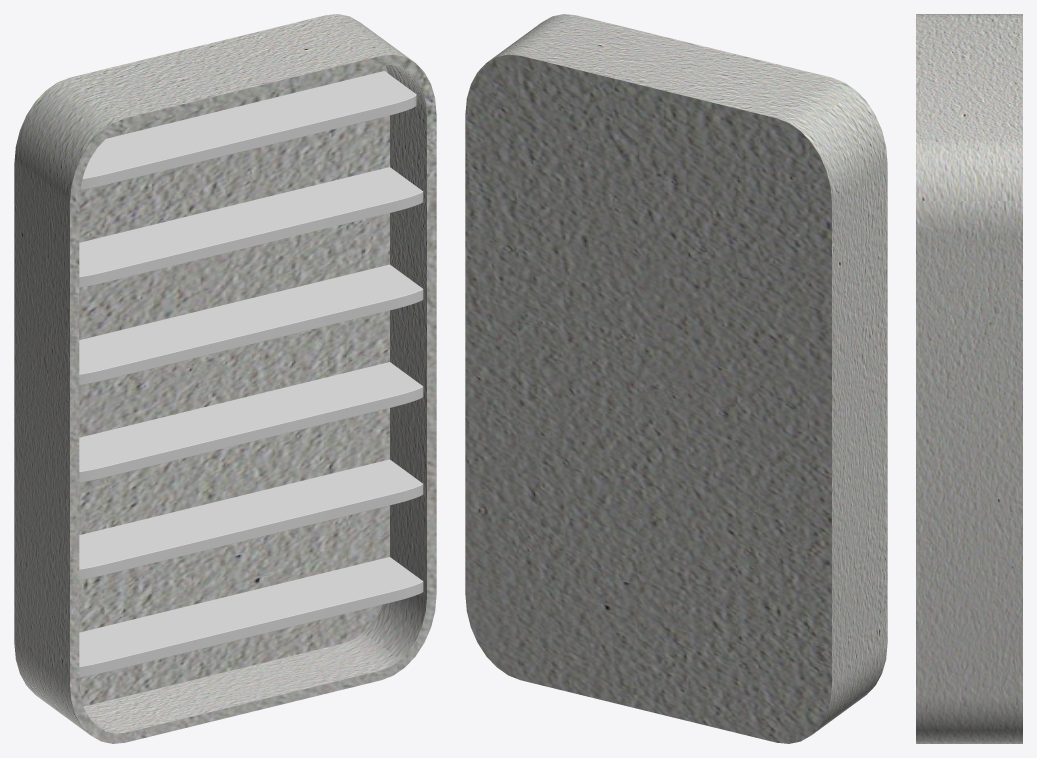
Rendered from BookShelves.fbx.
3 renders of one model, left to right at view 1: azimuth 30°, elevation 25°; view 2: azimuth 150°, elevation 25°; view 3: azimuth 270°, elevation 25°, orthographic. The views are drawn at different scales.
Visible parts, largest first — view 1: Cube.001, Plane.001; view 2: Cube.001; view 3: Cube.001.
Part boxes in pixels (box(x1,y1,x2,y2)): Cube.001: box(14, 14, 436, 743); Plane.001: box(79, 71, 423, 677); Cube.001: box(465, 14, 887, 743); Cube.001: box(916, 14, 1022, 743).
Bounding box in the file's own units: 325 × 529 × 85.14.
Materials: 2 (1 with a texture image).
